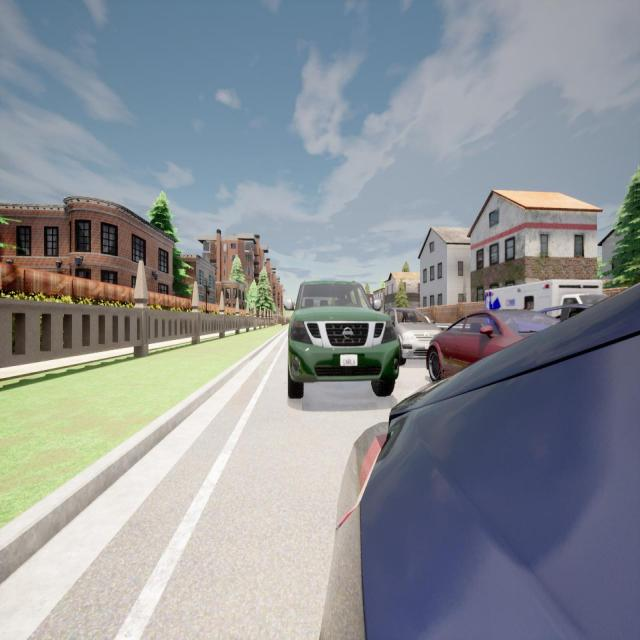Vehicle: (320, 284, 640, 638), (285, 281, 399, 397), (427, 312, 558, 384), (483, 280, 608, 320), (385, 308, 441, 357), (544, 305, 585, 317)
